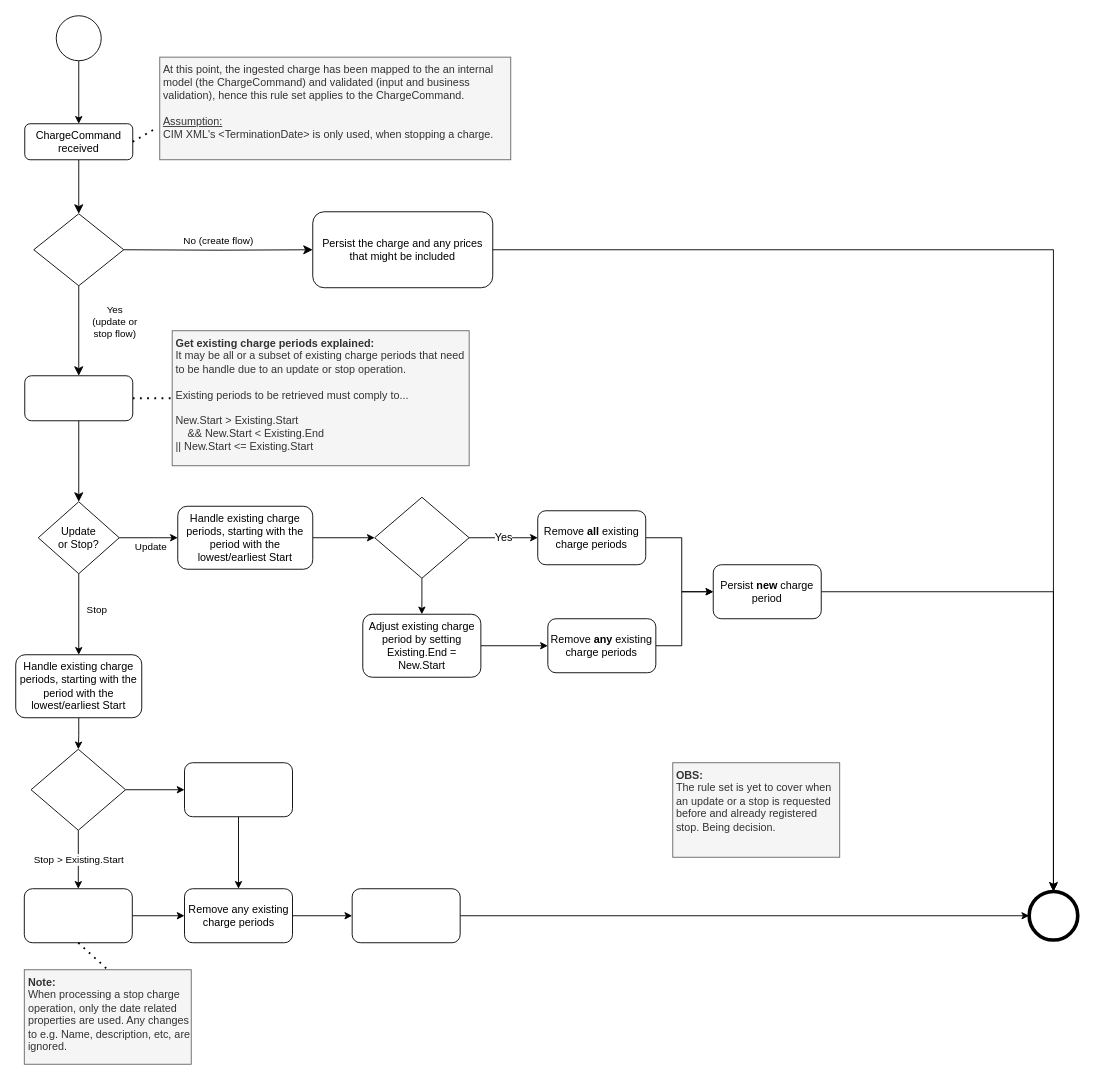
Some shapes in this 1095 by 1080 pixel diagram are drawn without their labels. Here are the shapes that lost their labels. From the top down, the centre of each, then its label:
At (x=78, y=249): "Charge exists?".
At (x=78, y=398): "Get existing charge periods".
At (x=421, y=537): "New.Start = Existing.Start".
At (x=78, y=789): "Stop = Existing.Start".
At (x=238, y=789): "Remove period".
At (x=77, y=915): "Set Existing.End = Stop".
At (x=405, y=915): "Remove any existing prices where Point.Time >= Stop".
